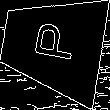P_W: (27, 23, 78, 68)
